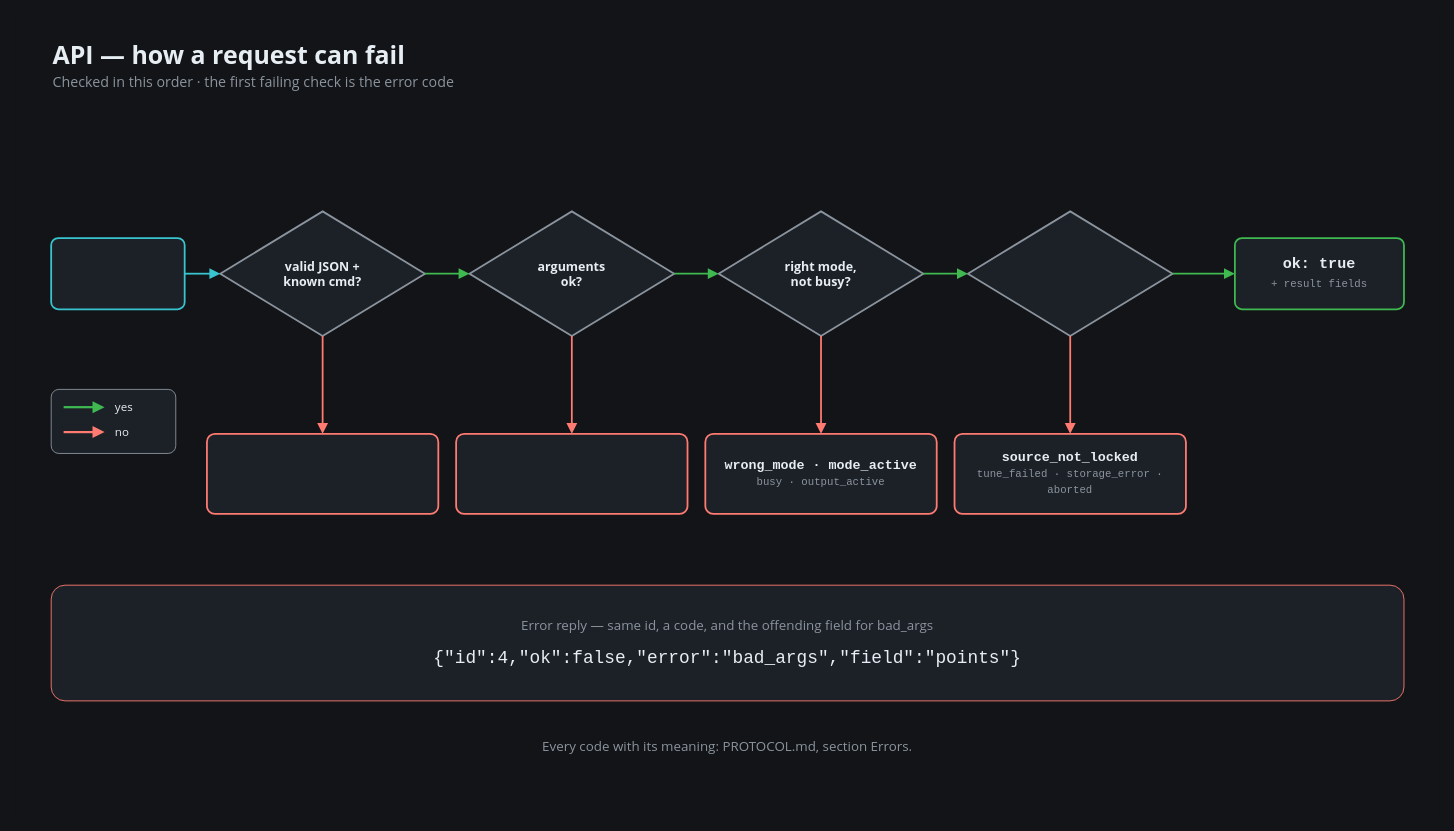
Image size: 1454x831. Some labels were removed from this diagram. Here are the shapes that lost their labels. From the top down, the centre of each, then its label:
the point at 117,273: request
the point at 1070,273: hardware ok?
the point at 322,473: bad_request unknown_cmd
the point at 571,473: bad_args + field
